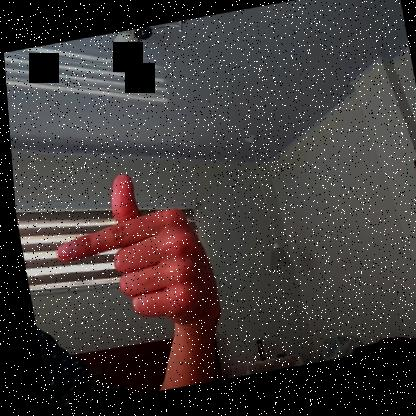T: (40, 162, 219, 345)
